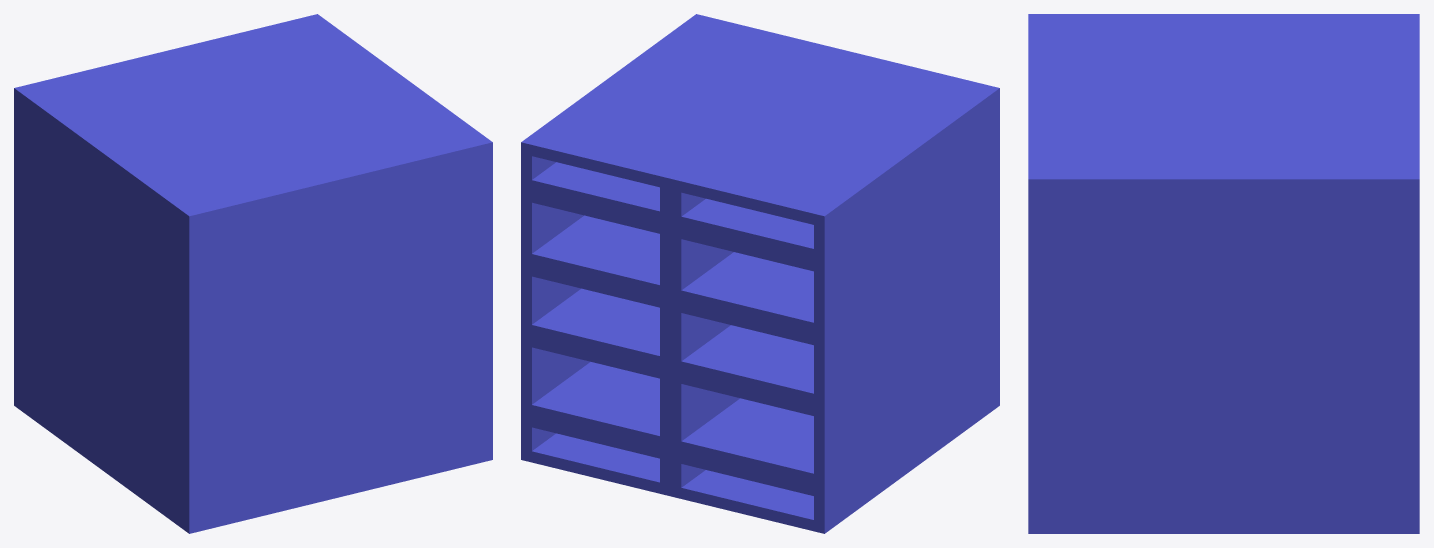
3 renders of one model, left to right at view 1: azimuth 30°, elevation 25°; view 2: azimuth 150°, elevation 25°; view 3: azimuth 270°, elevation 25°, orthographic. The views are drawn at different scales.
Parts seen in each view (by area): view 1: Cube; view 2: Cube; view 3: Cube.
Boxes of the visible parts, <box> form: Cube: <box>14,14,492,533</box>; Cube: <box>521,14,999,533</box>; Cube: <box>1028,14,1419,533</box>.
Bounding box in the file's own units: 2 × 2 × 2.
